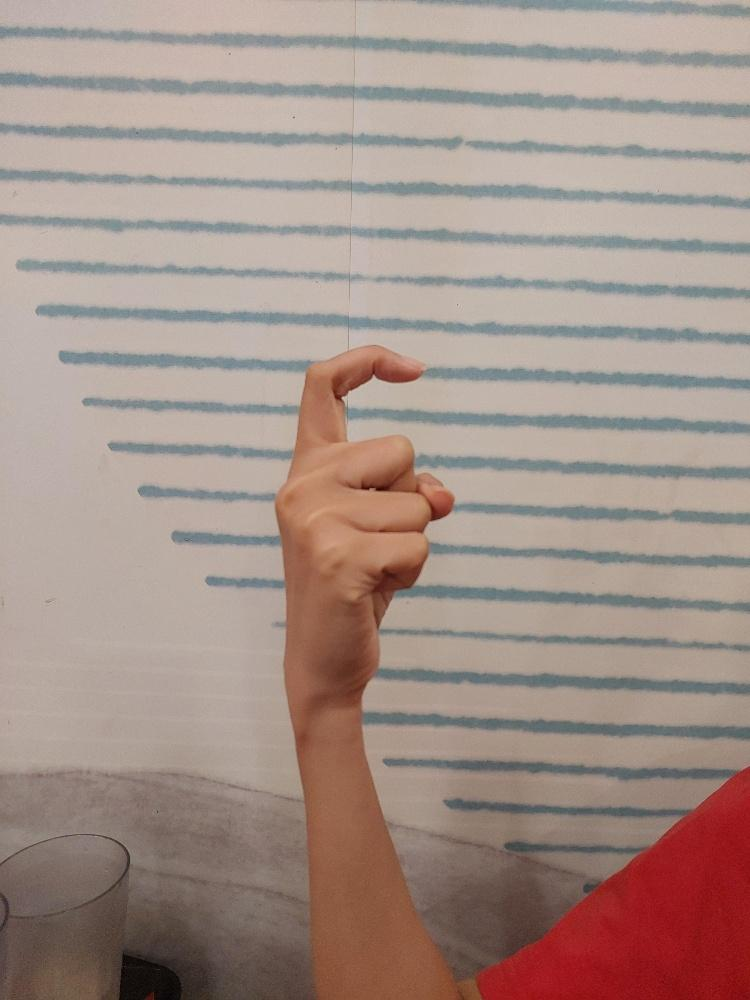x: (272, 342, 457, 710)
